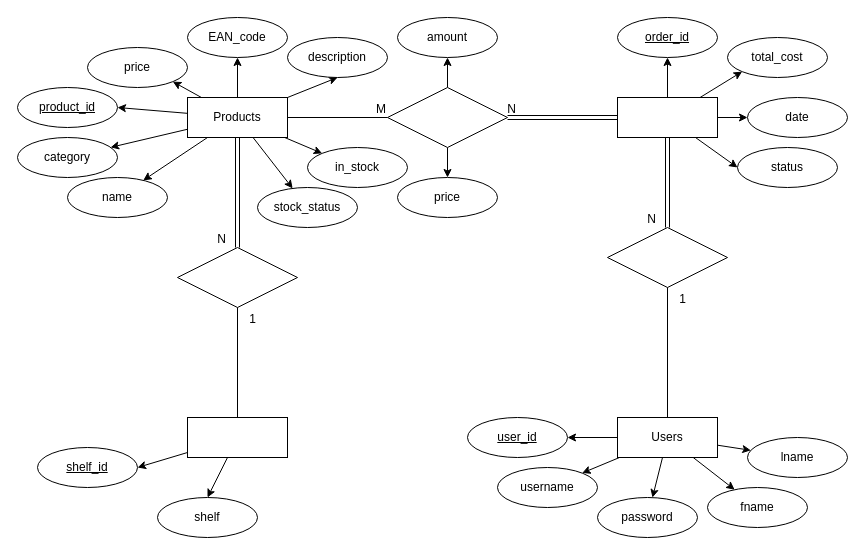
Image size: 865x555. Some labels were removed from this diagram. The centre of each missing label's shape, as x and y in pixels:
"make" goes at point 667,257.
"order_product" goes at point 447,117.
"Orders" goes at point 667,117.
"Shelf_units" goes at point 237,437.
"stored_on" goes at point 237,277.
